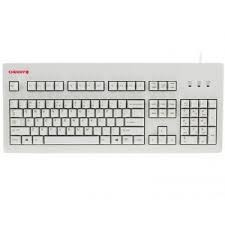keyboard: (2, 61, 215, 157)
